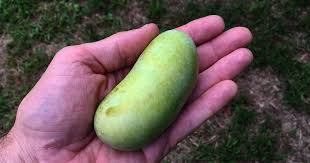papaya: (92, 30, 197, 152)
